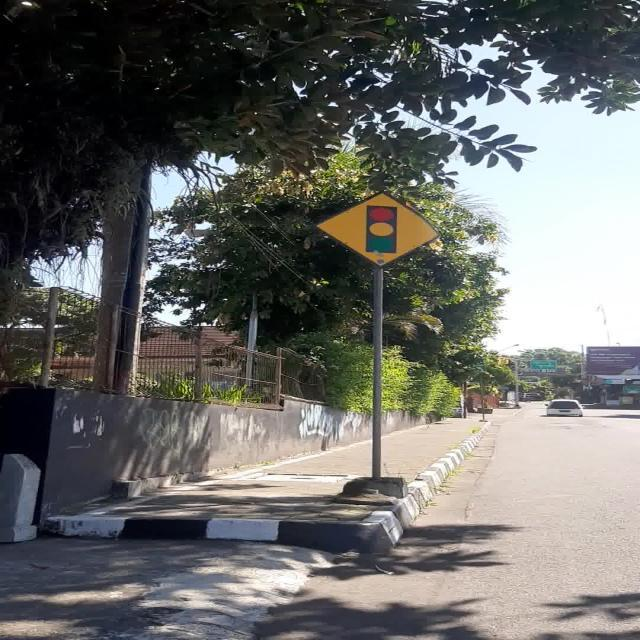Lampu Lalu Lintas: (314, 191, 440, 268)
